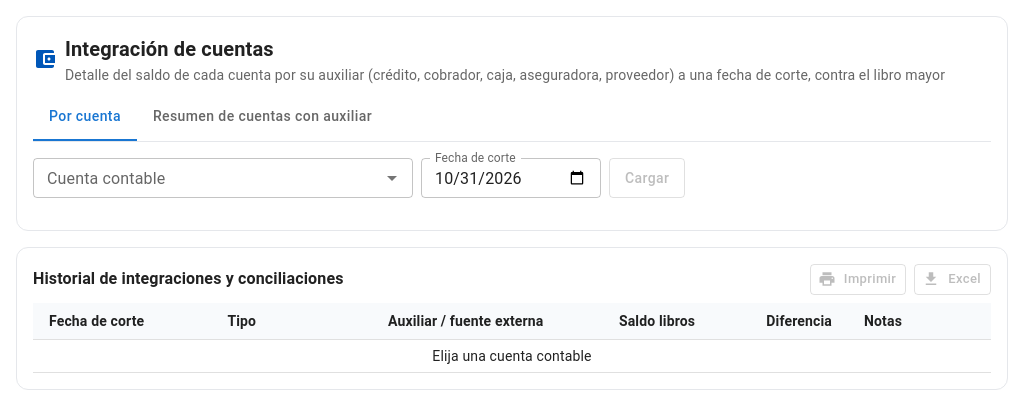
Test: Integración de cuentas › resumen: todas las cuentas con auxiliar y su diferencia
The image size is (1024, 407).
Click the tab "Resumen de cuentas con auxiliar" at (262, 117), box [137,93,388,141]
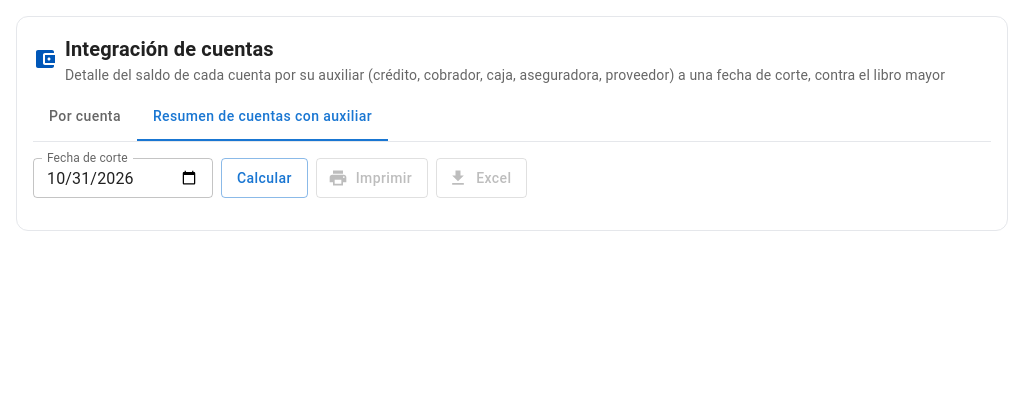
Click the button "Calcular" at (264, 178), box [221,158,308,198]
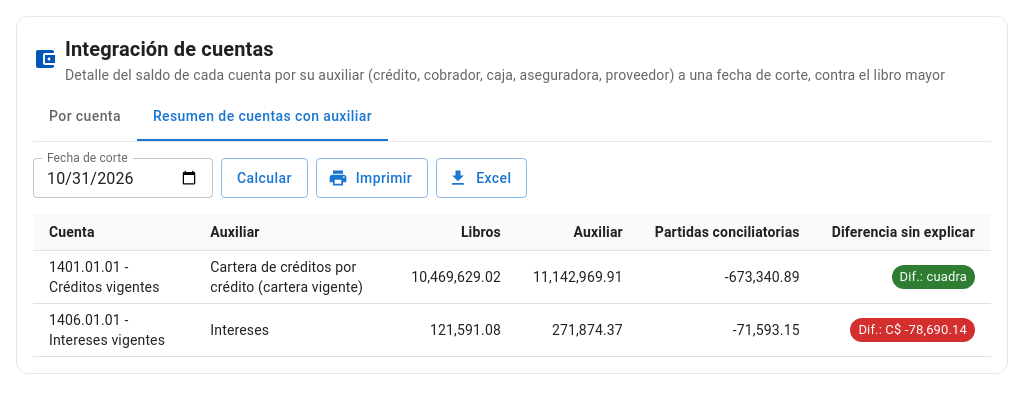
Expected: the text "1406.01.01 - Intereses vigentes" is shown, [33,304,194,356]
Expected: the text "Dif.: cuadra" is shown, [900,269,967,284]
Expected: the text "Dif.: C$ -78,690.14" is shown, [850,321,975,339]
